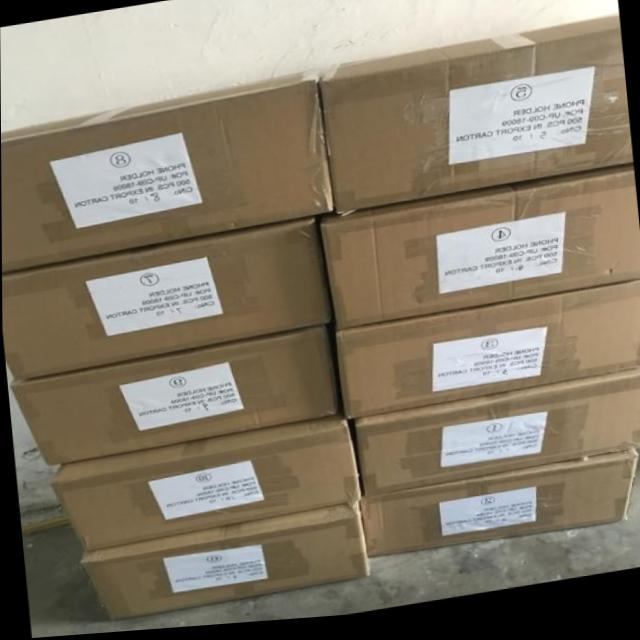box: (1, 72, 334, 271), (320, 24, 633, 221), (2, 221, 332, 382), (321, 172, 640, 335), (9, 329, 339, 466), (50, 418, 358, 554), (335, 289, 640, 424), (353, 378, 640, 502), (79, 506, 369, 624), (359, 458, 637, 562)
